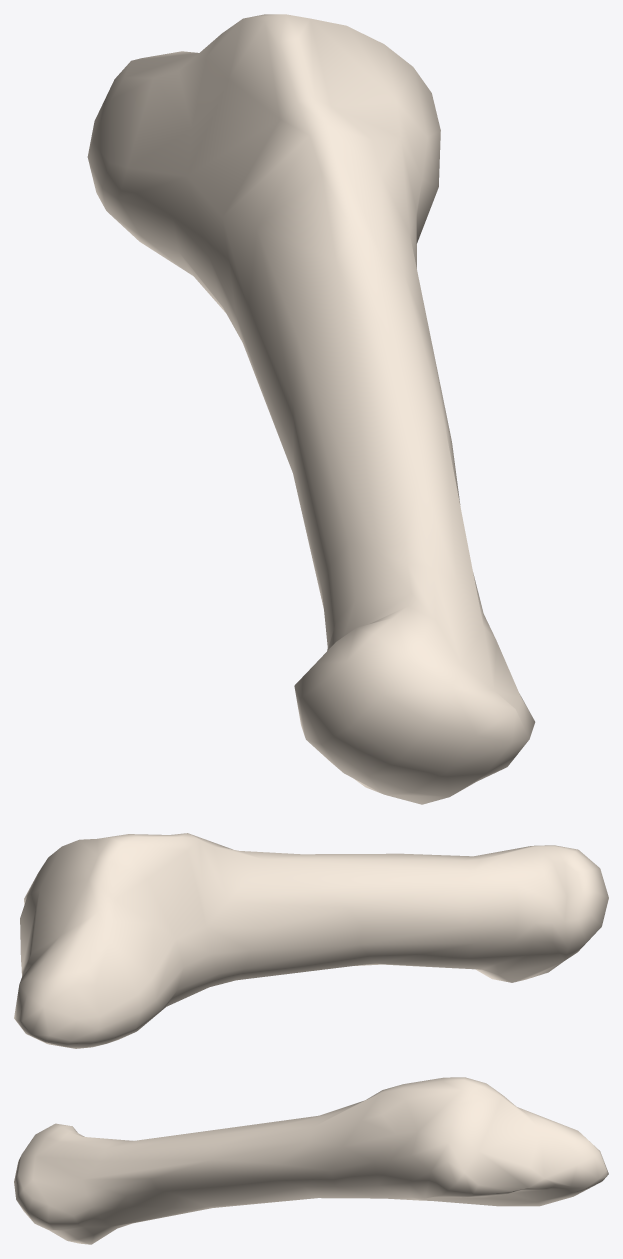
Rendered from right_metatarsal_5.glb.
The picture shows the model from 3 angles, top to bottom: view 1: azimuth 30°, elevation 25°; view 2: azimuth 150°, elevation 25°; view 3: azimuth 270°, elevation 25°; orthographic projection. The views are drawn at different scales.
Parts seen in each view (by area): view 1: Fifth metatarsal bone.r; view 2: Fifth metatarsal bone.r; view 3: Fifth metatarsal bone.r.
Part boxes in pixels (left/top/right/bottom): Fifth metatarsal bone.r: left=87, top=14, right=535, bottom=804; Fifth metatarsal bone.r: left=14, top=833, right=608, bottom=1048; Fifth metatarsal bone.r: left=14, top=1077, right=608, bottom=1244.
Size of the model in its own units: 0.0365 by 0.03 by 0.0732.
